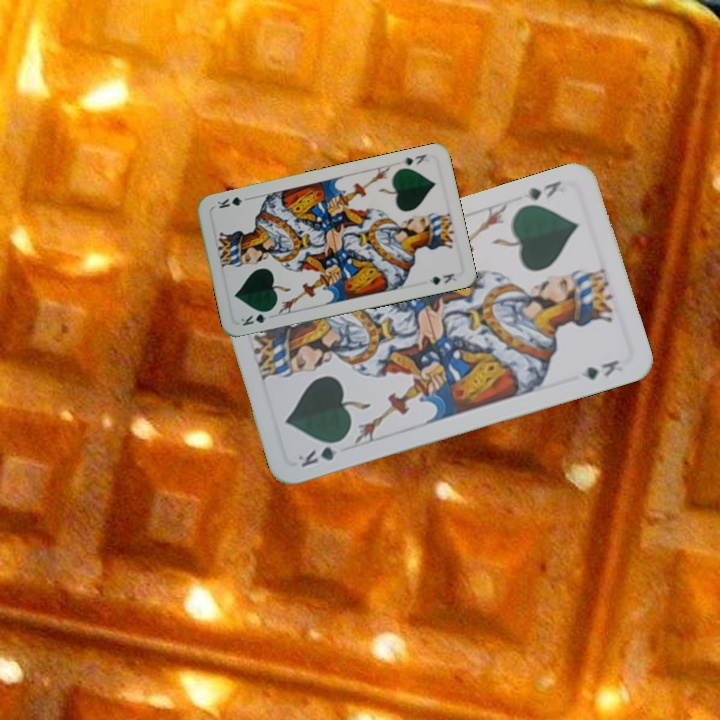GK: (294, 435, 348, 470), (520, 176, 564, 203), (237, 306, 275, 329), (398, 150, 429, 168)
